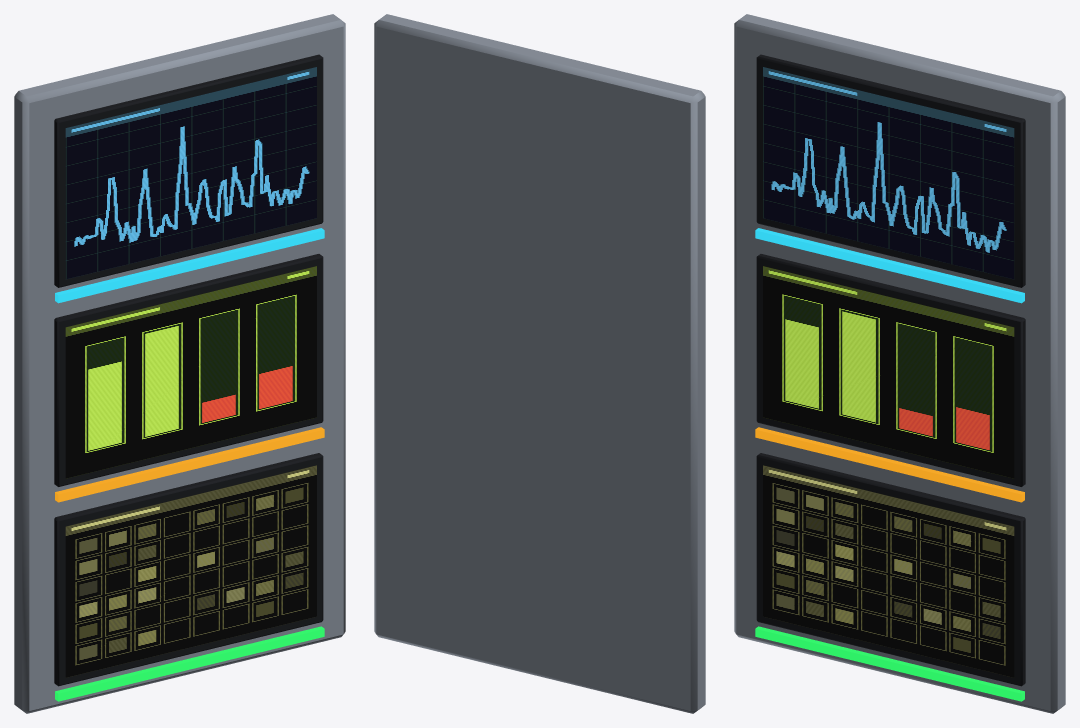
The model's file is display_triple_stack.glb.
3 views of the same model, side by side, from view 1: azimuth 30°, elevation 25°; view 2: azimuth 150°, elevation 25°; view 3: azimuth 330°, elevation 25° (orthographic).
Parts seen in each view (by area): view 1: display_triple_stack; view 2: display_triple_stack; view 3: display_triple_stack.
Part boxes in pixels (x1=…): display_triple_stack: x1=14, y1=14, x2=345, y2=713; display_triple_stack: x1=374, y1=14, x2=705, y2=713; display_triple_stack: x1=734, y1=14, x2=1065, y2=713.
Size of the model in its own units: 0.85 by 1.55 by 0.0825.
8 materials, 3 textured.
